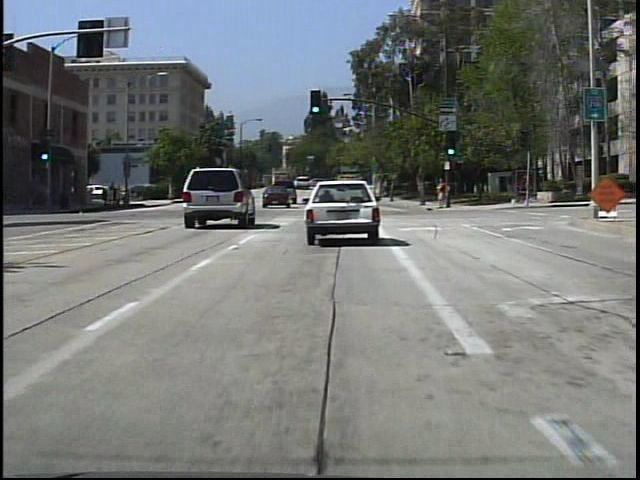person: (431, 173, 448, 210), (107, 180, 119, 210), (121, 182, 122, 209)
